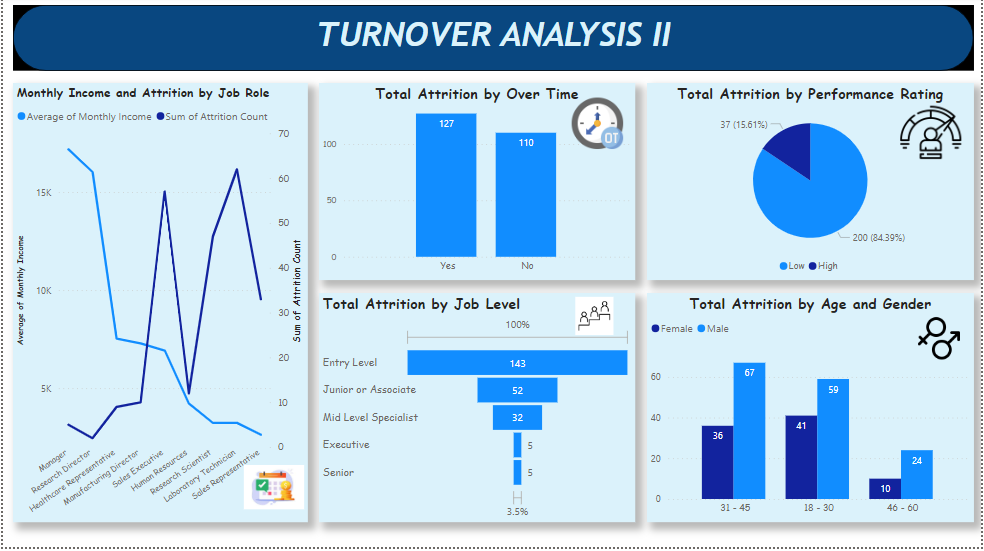

The dashboard page shown, as its layout file describes it:
{"tool":"powerbi","page":{"name":"TR II","canvas":[1280,720],"ordinal":3},"visuals":[{"type":"shape","box":[12.5,10,1257.5,86.2],"z":0},{"type":"lineChart","title":"Monthly Income and Attrition by Job Role","fields":{"Category":["HR-Employee-Attrition.Job Role"],"Y":["Avg(HR-Employee-Attrition.Monthly Income)"],"Y2":["Sum(HR-Employee-Attrition.Attrition Count)"]},"box":[12.5,112.5,386.2,575],"z":1000},{"type":"image","box":[310.3,595.6,89,91.6],"z":2000},{"type":"columnChart","title":"Total Attrition by Over Time","fields":{"Y":["Sum(HR-Employee-Attrition.Attrition Count)"],"Category":["HR-Employee-Attrition.Over Time"]},"box":[413.8,112.5,413.8,257.5],"z":3000},{"type":"pieChart","title":"Total Attrition by Performance Rating","fields":{"Y":["Sum(HR-Employee-Attrition.Attrition Count)"],"Category":["HR-Employee-Attrition.Performance Rating (groups)"]},"box":[842.5,112.5,427.5,257.5],"z":4000},{"type":"funnel","title":"Total Attrition by Job Level","fields":{"Y":["Sum(HR-Employee-Attrition.Attrition Count)"],"Category":["HR-Employee-Attrition.Job Level (groups)"]},"box":[413.8,387.5,413.8,300],"z":5000},{"type":"clusteredColumnChart","title":"Total Attrition by Age and Gender","fields":{"Category":["HR-Employee-Attrition.Age (groups)"],"Y":["Sum(HR-Employee-Attrition.Attrition Count)"],"Series":["HR-Employee-Attrition.Gender"]},"box":[842.5,387.5,427.5,300],"z":6000},{"type":"image","box":[729.2,124.4,98.2,82.5],"z":7000},{"type":"image","box":[1158.8,132.5,111.2,90],"z":8000},{"type":"image","box":[1180.8,412.4,89,69.4],"z":9000},{"type":"image","box":[729.2,387.5,89,60.2],"z":10000}]}

Visuals, with their boxes in screenshot pixels (x1, y1, x2, y2), scaled from the page's 1280x720 canvas onto the 984x551 screenshot:
shape: [left=10, top=8, right=976, bottom=74]
"Monthly Income and Attrition by Job Role" lineChart: [left=10, top=86, right=307, bottom=526]
image: [left=239, top=456, right=307, bottom=526]
"Total Attrition by Over Time" columnChart: [left=318, top=86, right=636, bottom=283]
"Total Attrition by Performance Rating" pieChart: [left=648, top=86, right=976, bottom=283]
"Total Attrition by Job Level" funnel: [left=318, top=297, right=636, bottom=526]
"Total Attrition by Age and Gender" clusteredColumnChart: [left=648, top=297, right=976, bottom=526]
image: [left=561, top=95, right=636, bottom=158]
image: [left=891, top=101, right=976, bottom=170]
image: [left=908, top=316, right=976, bottom=369]
image: [left=561, top=297, right=629, bottom=343]
